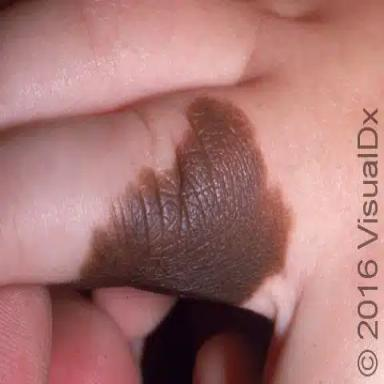nevus: (82, 97, 290, 302)
